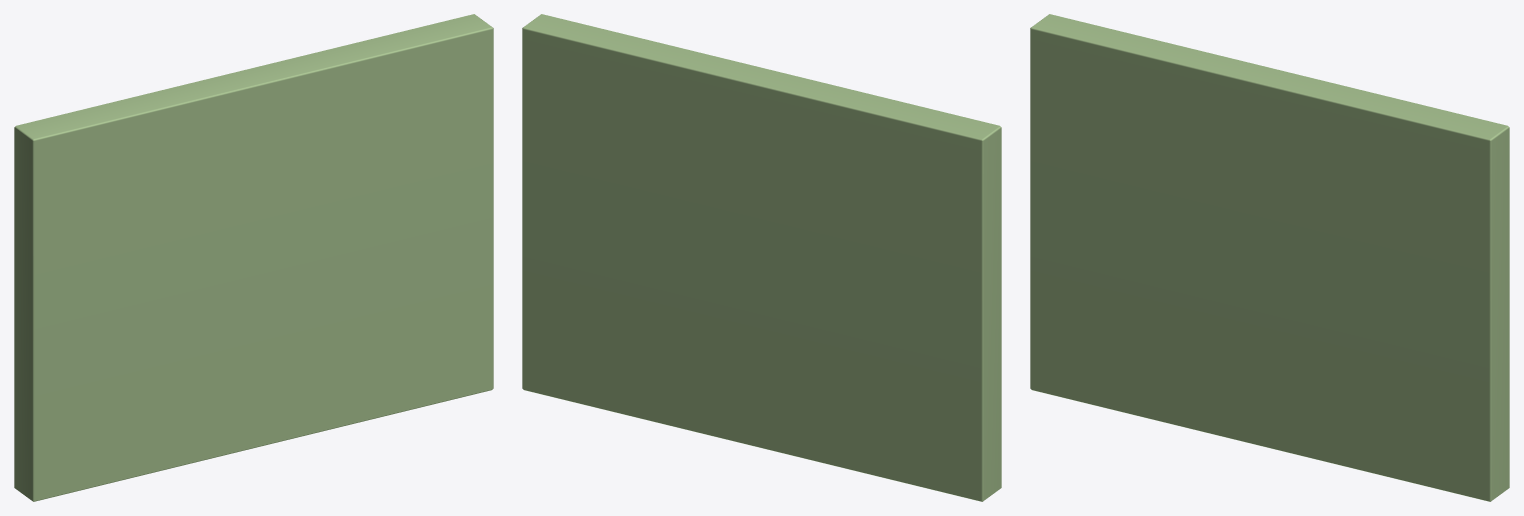
The model's file is Wall_green.glb.
3 views of the same model, side by side, from view 1: azimuth 30°, elevation 25°; view 2: azimuth 150°, elevation 25°; view 3: azimuth 330°, elevation 25° (orthographic).
Visible parts, largest first — view 1: Wall_21; view 2: Wall_21; view 3: Wall_21.
Boxes of the visible parts, x1,y1,x2,y2 form: Wall_21: [14, 14, 493, 501]; Wall_21: [522, 14, 1001, 501]; Wall_21: [1030, 14, 1509, 501].
Bounding box in the file's own units: 5.4 × 4.06 × 0.401.
1 material, 1 textured.
